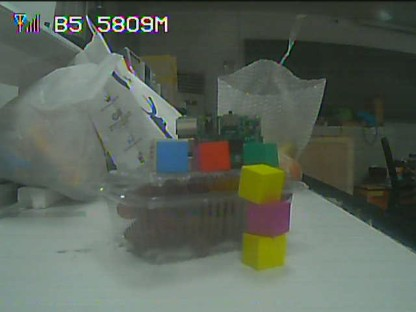b: (156, 142, 185, 170)
g: (245, 145, 278, 169)
r: (195, 144, 227, 169)
